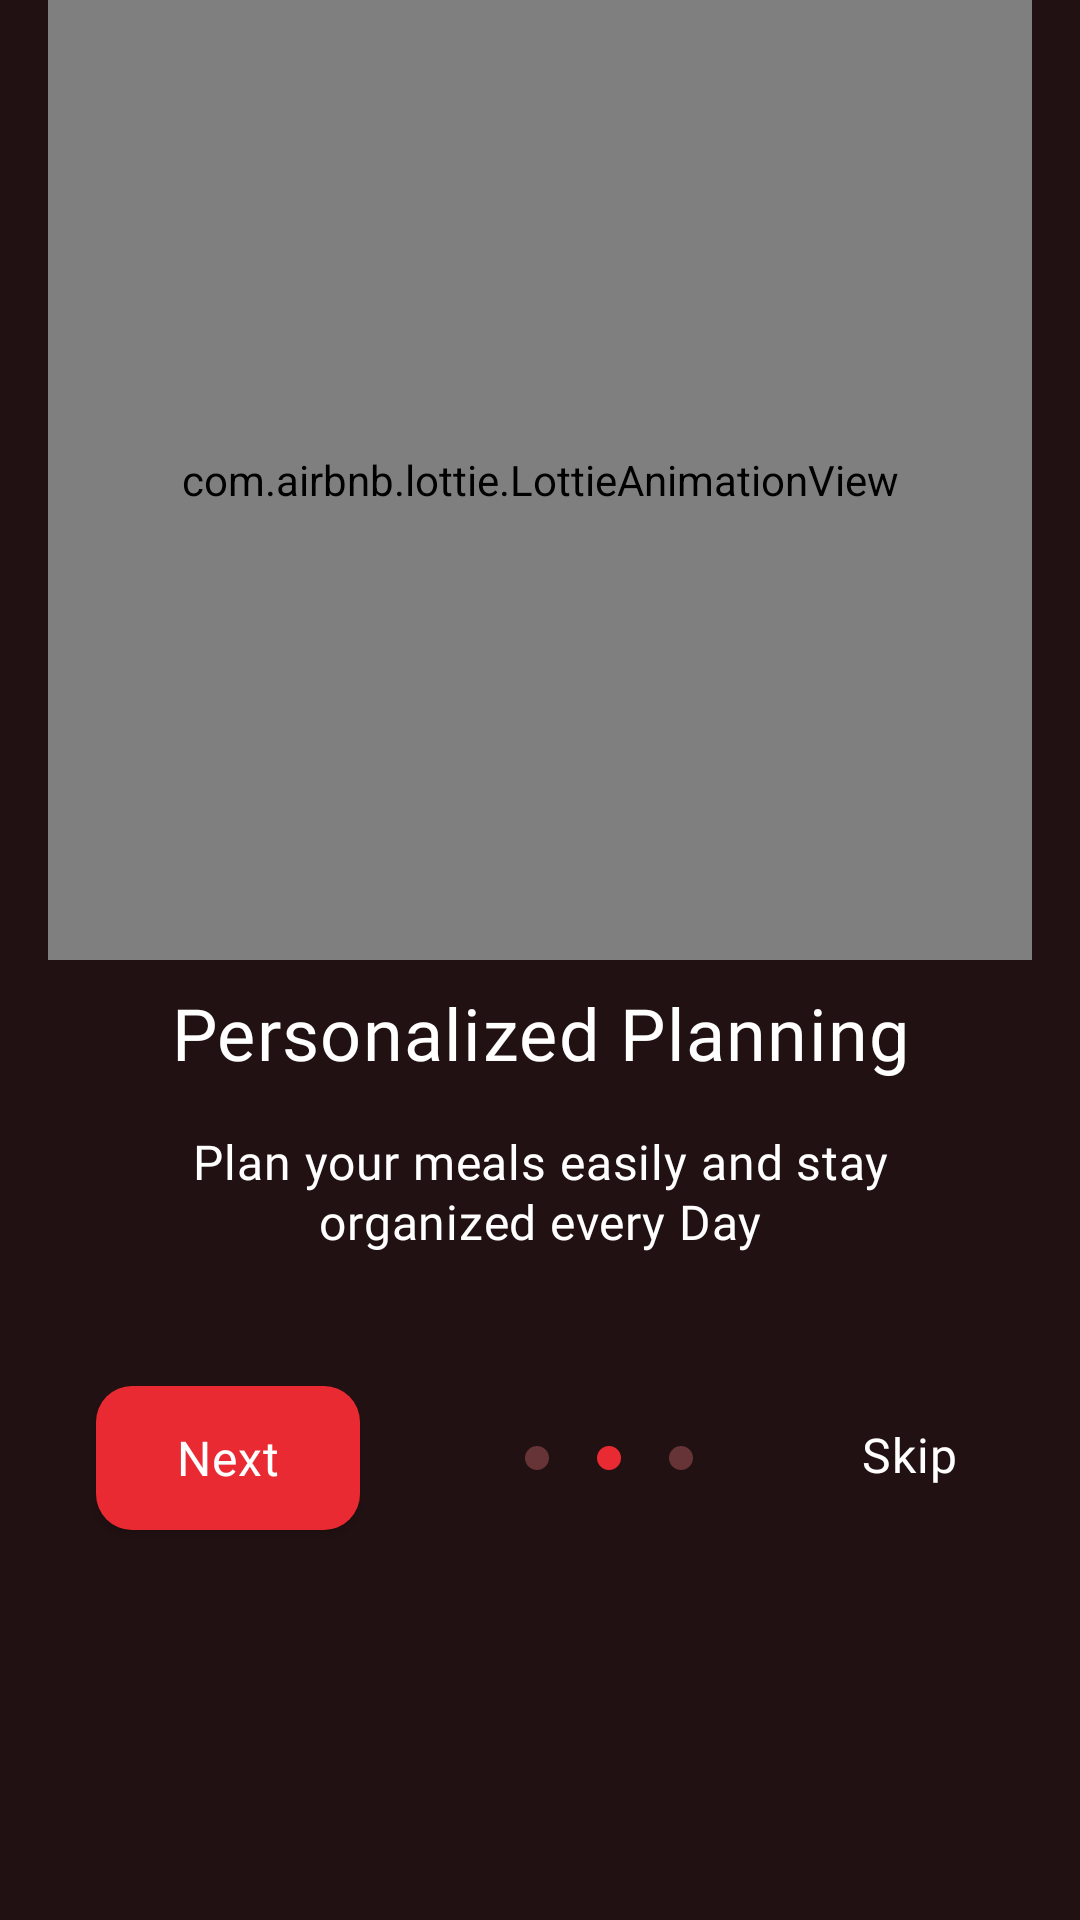

Named icons in this screenshot (1080*1920) and their centers, point (x, y):
dot: point (609, 1458)
empty dots: point (537, 1458), point (681, 1458)
